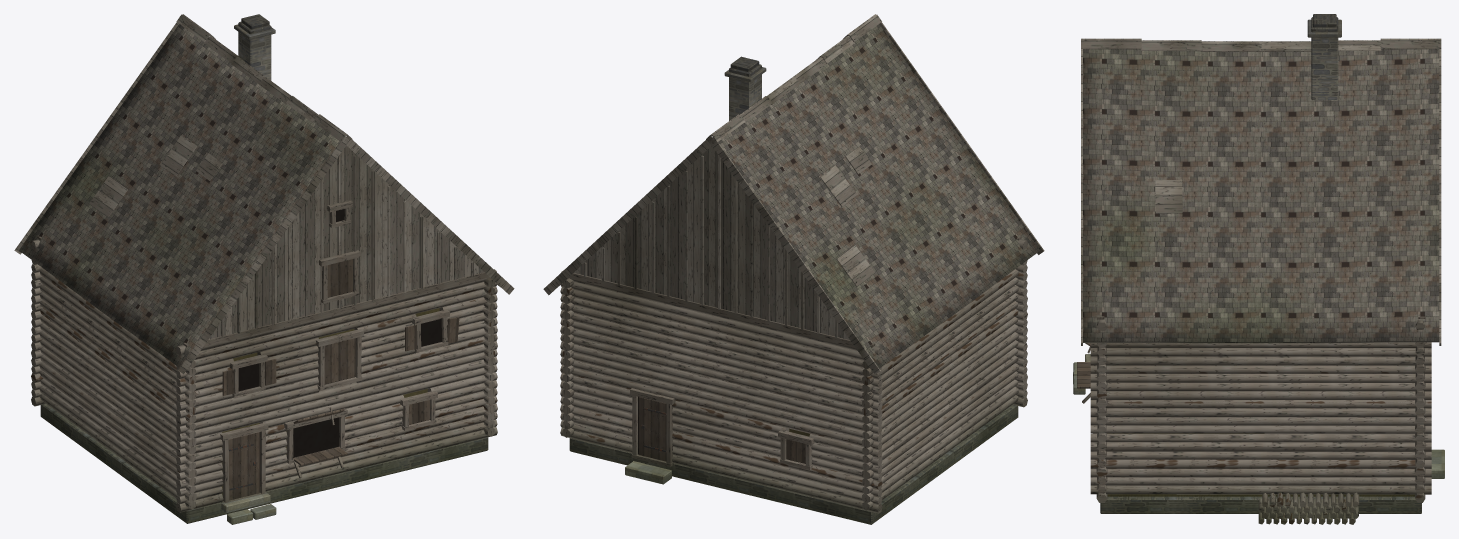
The model's file is merchant_timber_log.glb.
3 renders of one model, left to right at view 1: azimuth 30°, elevation 25°; view 2: azimuth 150°, elevation 25°; view 3: azimuth 270°, elevation 25°, orthographic. The views are drawn at different scales.
Visible parts, largest first — view 1: MerchantTimberLogLog, MerchantTimberLogWoodShingle, MerchantTimberLogBoards, MerchantTimberLogOakWeathered, MerchantTimberLogOakPlank, MerchantTimberLogLimestonePlinth, MerchantTimberLogRecess, MerchantTimberLogLimestoneRubble, MerchantTimberLogLimestoneDressed; view 2: MerchantTimberLogLog, MerchantTimberLogWoodShingle, MerchantTimberLogBoards, MerchantTimberLogLimestonePlinth, MerchantTimberLogOakWeathered, MerchantTimberLogOakPlank, MerchantTimberLogLimestoneRubble, MerchantTimberLogLimestoneDressed; view 3: MerchantTimberLogWoodShingle, MerchantTimberLogLog, MerchantTimberLogBoards, MerchantTimberLogLimestonePlinth, MerchantTimberLogLimestoneRubble, MerchantTimberLogLimestoneDressed, MerchantTimberLogMossCaulk.
Part boxes in pixels (x1,y1,x2,y2): MerchantTimberLogLog: (31,239,497,512); MerchantTimberLogWoodShingle: (19,24,500,367); MerchantTimberLogBoards: (14,14,514,374); MerchantTimberLogOakWeathered: (37,200,489,503); MerchantTimberLogOakPlank: (222,259,459,500); MerchantTimberLogLimestonePlinth: (40,404,488,523); MerchantTimberLogRecess: (238,209,441,492); MerchantTimberLogLimestoneRubble: (238,14,271,80); MerchantTimberLogLimestoneDressed: (221,24,276,524); MerchantTimberLogLog: (560,239,1027,513); MerchantTimberLogWoodShingle: (559,24,1039,368); MerchantTimberLogBoards: (543,14,1044,374); MerchantTimberLogLimestonePlinth: (569,404,1018,524); MerchantTimberLogOakWeathered: (568,236,1021,469); MerchantTimberLogOakPlank: (638,397,805,463); MerchantTimberLogLimestoneRubble: (729,56,761,120); MerchantTimberLogLimestoneDressed: (625,67,766,484); MerchantTimberLogWoodShingle: (1083,49,1439,343); MerchantTimberLogLog: (1090,319,1431,524); MerchantTimberLogBoards: (1081,38,1441,345); MerchantTimberLogLimestonePlinth: (1100,496,1421,513); MerchantTimberLogLimestoneRubble: (1311,14,1338,100); MerchantTimberLogLimestoneDressed: (1073,19,1444,478); MerchantTimberLogMossCaulk: (1107,433,1414,496).
Bounding box in the file's own units: 11.35 × 12.42 × 9.81.
11 materials, 11 textured.
